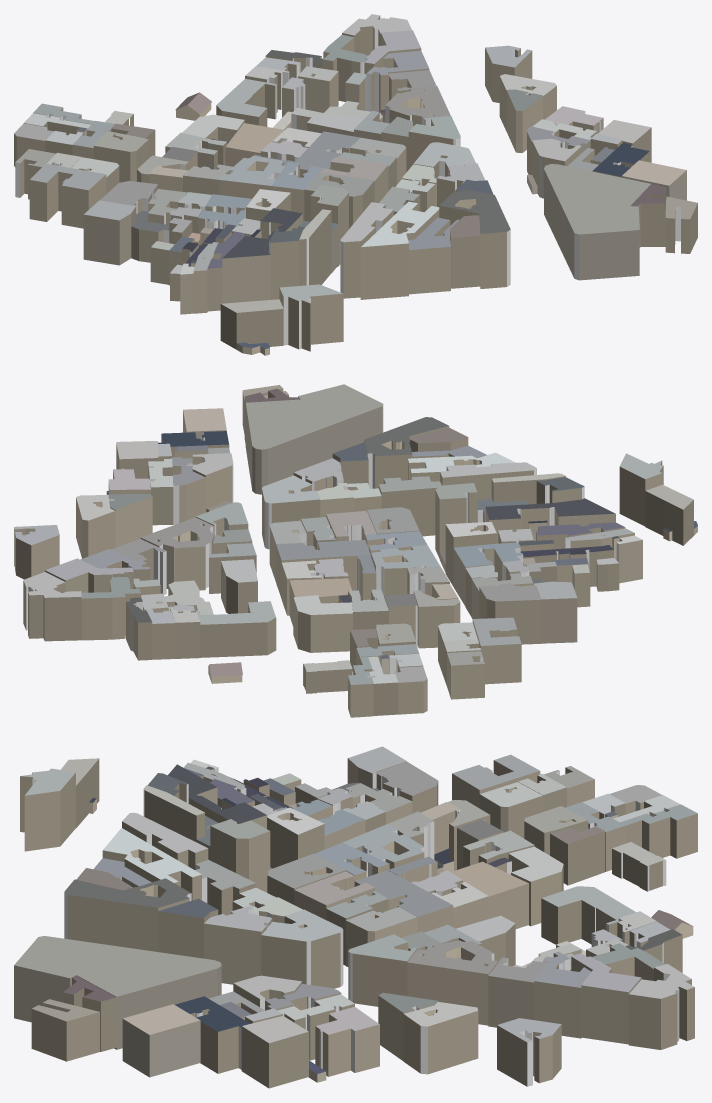
The picture shows the model from 3 angles, top to bottom: view 1: azimuth 30°, elevation 25°; view 2: azimuth 150°, elevation 25°; view 3: azimuth 270°, elevation 25°; orthographic projection. The views are drawn at different scales.
Parts seen in each view (by area): view 1: tuile; view 2: tuile; view 3: tuile.
Boxes of the visible parts, box(x1,y1,x2,y2) form: tuile: box(14, 14, 697, 355); tuile: box(14, 384, 697, 717); tuile: box(14, 746, 697, 1088).
Size of the model in its own units: 274 by 37.77 by 271.
